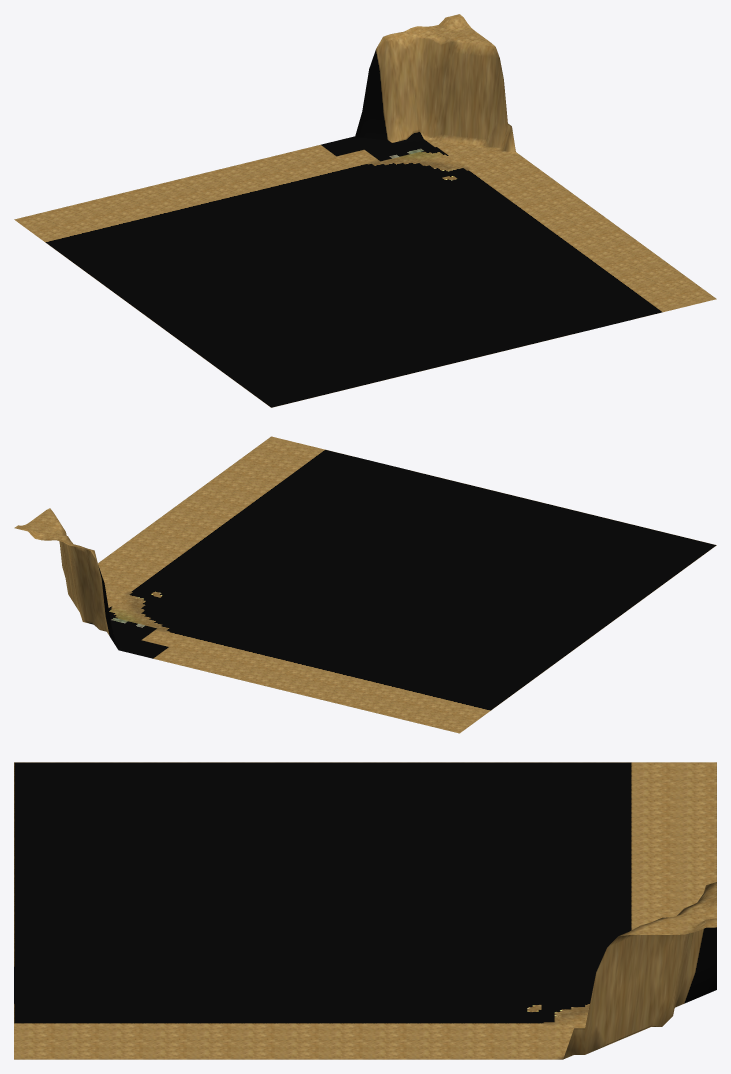
The model's file is terrain.glb.
The picture shows the model from 3 angles, top to bottom: view 1: azimuth 30°, elevation 25°; view 2: azimuth 150°, elevation 25°; view 3: azimuth 270°, elevation 25°; orthographic projection. The views are drawn at different scales.
Visible parts, largest first — view 1: terrain_1_1; view 2: terrain_1_1; view 3: terrain_1_1.
Part boxes in pixels (x1,y1,x2,y2): terrain_1_1: (14,14,716,407); terrain_1_1: (14,436,716,733); terrain_1_1: (14,762,716,1059).
Size of the model in its own units: 512 by 106 by 512.
Materials: 1 (1 with a texture image).
